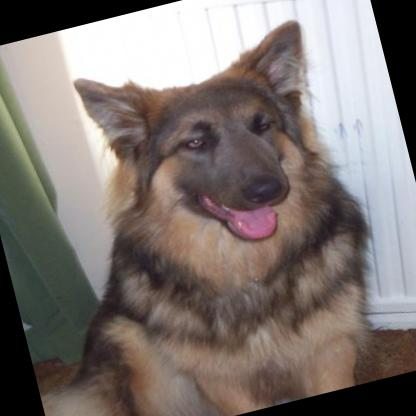German_shepherd: (0, 10, 407, 416)
